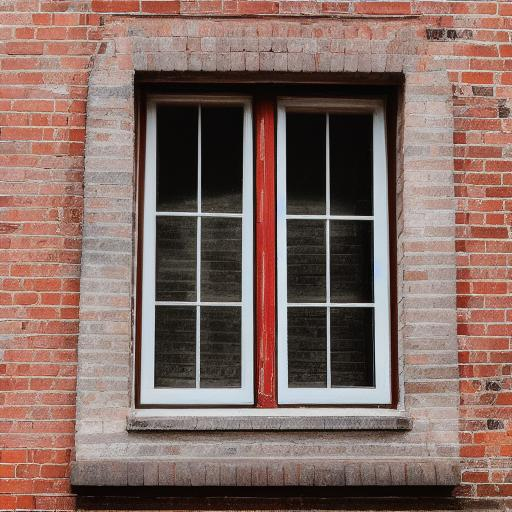Window: (70, 13, 466, 495)
